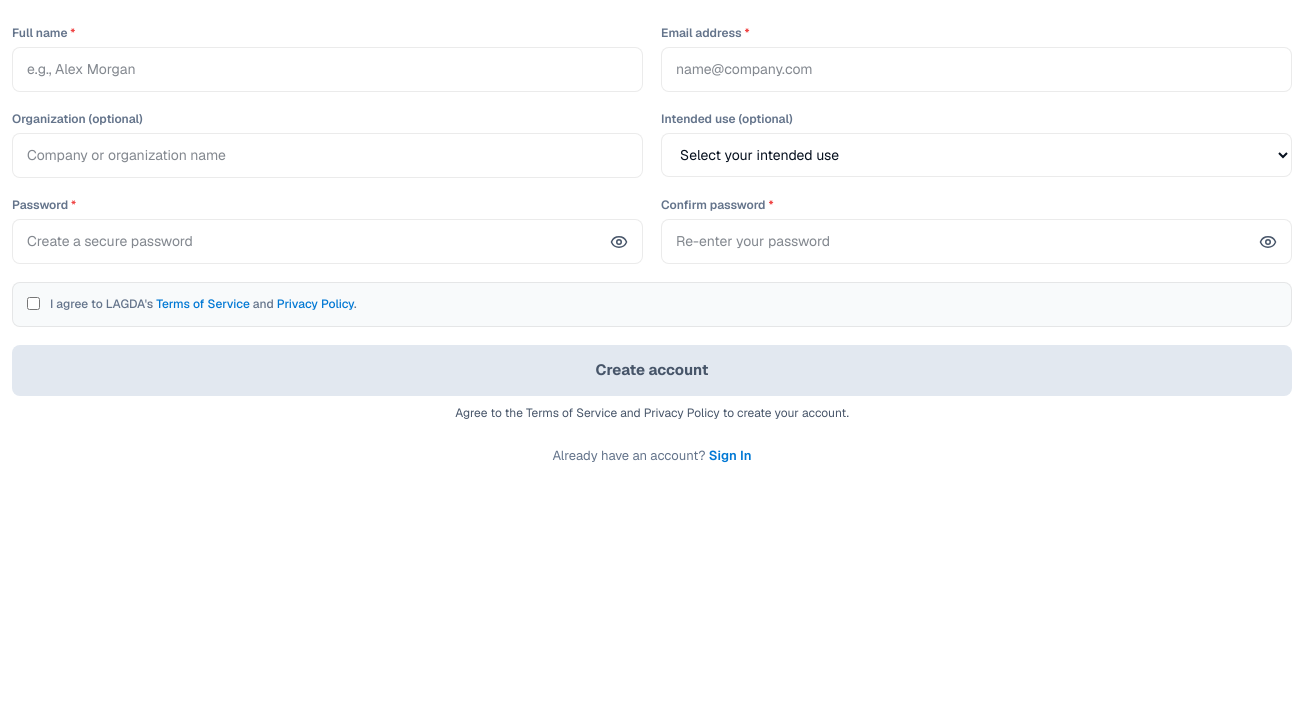
Test: Create account — consent gate › still shows the existing validation messages once the terms are accepted
Click the checkbox at (34, 304), box x1=27 y1=297 x2=40 y2=310
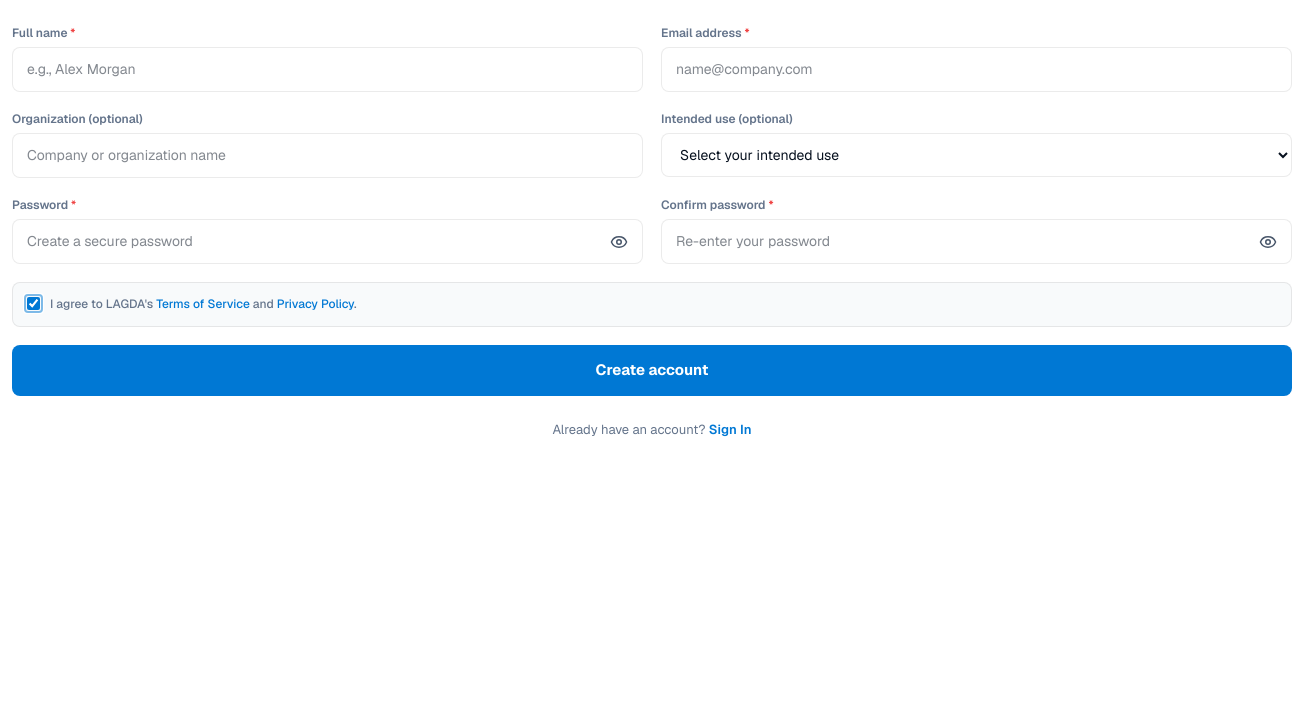
Click the button "Create account" at (652, 370), box x1=12 y1=345 x2=1292 y2=396
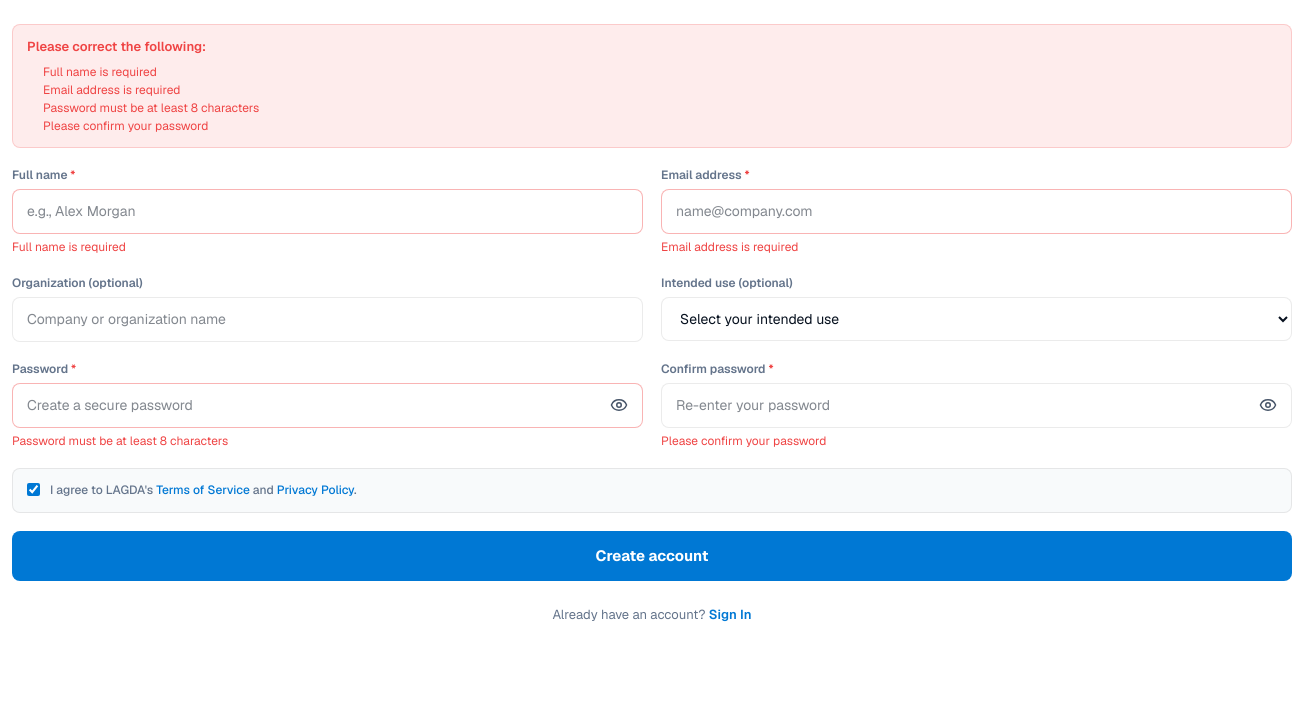
Check: the message named "Form errors" shows "Full name is required", box x1=43 y1=64 x2=157 y2=80
Check: the message named "Form errors" shows "Email address is required", box x1=43 y1=82 x2=180 y2=98
Check: the message named "Form errors" shows "Password must be at least 8 characters", box x1=43 y1=100 x2=259 y2=116
